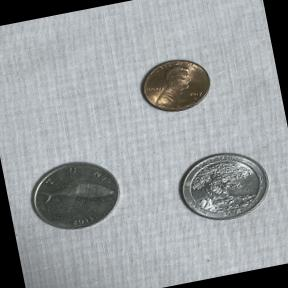Croatia-2Kune-B: (18, 148, 132, 242)
US-1cent-B: (126, 44, 224, 124)
US-25cent-B: (166, 140, 279, 232)
